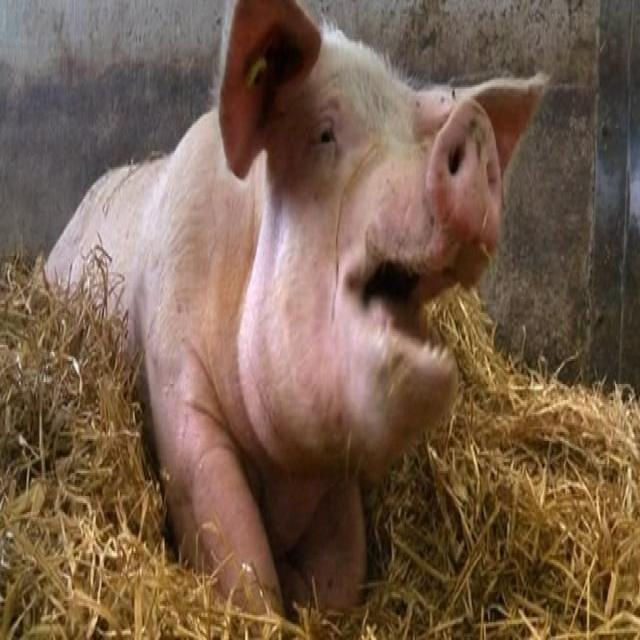Pig: (29, 3, 548, 618)
